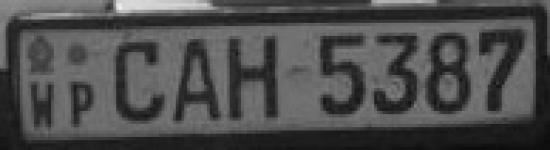3: (370, 27, 421, 120)
5: (307, 30, 371, 122)
7: (474, 26, 533, 119)
8: (422, 29, 478, 118)
A: (170, 33, 224, 125)
C: (107, 36, 168, 130)
H: (227, 32, 282, 124)
P: (65, 76, 98, 132)
W: (24, 77, 62, 135)
